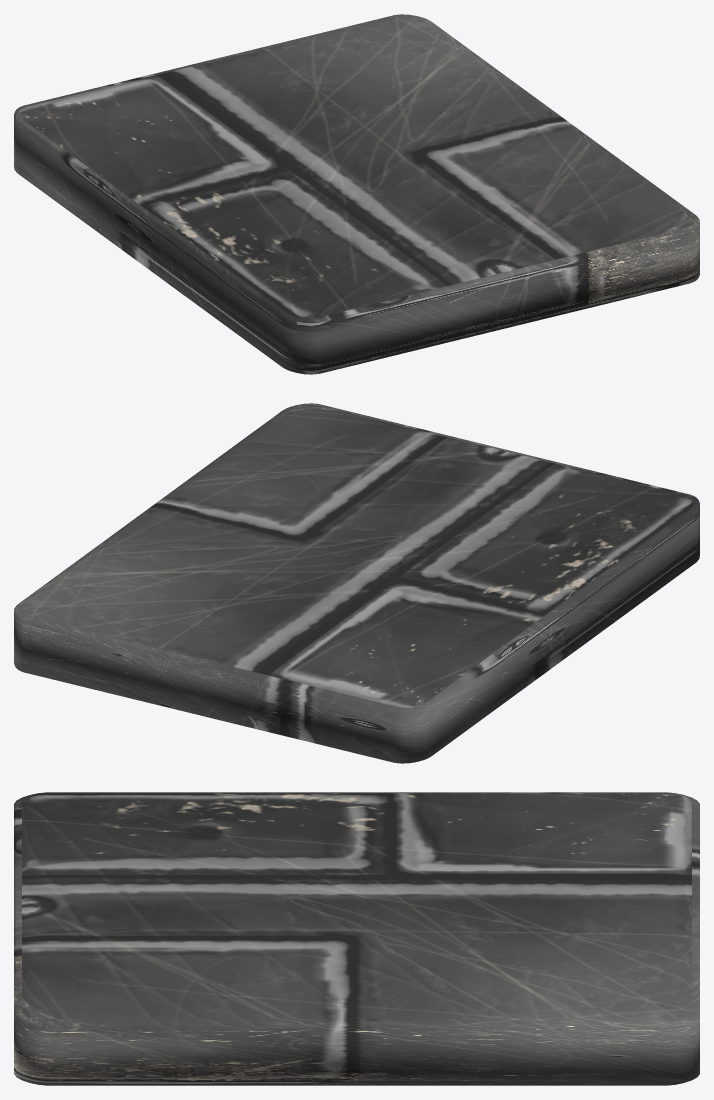
The model's file is Plattform.fbx.
3 views of the same model, one above another, from view 1: azimuth 30°, elevation 25°; view 2: azimuth 150°, elevation 25°; view 3: azimuth 270°, elevation 25° (orthographic). The views are drawn at different scales.
Visible parts, largest first — view 1: Plattform; view 2: Plattform; view 3: Plattform.
Boxes of the visible parts, x1,y1,x2,y2 form: Plattform: (14, 14, 699, 374); Plattform: (14, 403, 699, 763); Plattform: (14, 792, 699, 1085).
Bounding box in the file's own units: 217 × 28.73 × 269.
